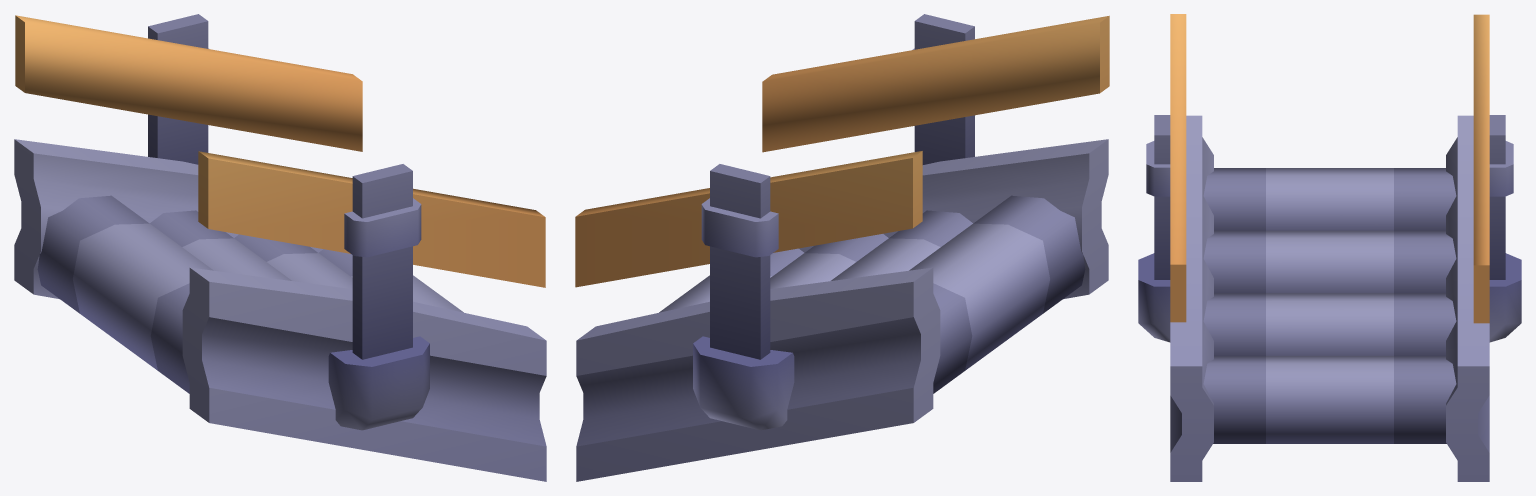
The model's file is kenney-factory-conveyor-bars-stripe-fence-slope.glb.
3 renders of one model, left to right at view 1: azimuth 30°, elevation 25°; view 2: azimuth 150°, elevation 25°; view 3: azimuth 270°, elevation 25°, orthographic. The views are drawn at different scales.
Parts seen in each view (by area): view 1: conveyor-bars-stripe-fence-slope; view 2: conveyor-bars-stripe-fence-slope; view 3: conveyor-bars-stripe-fence-slope.
Part boxes in pixels (left/top/right/bottom): conveyor-bars-stripe-fence-slope: left=14, top=14, right=546, bottom=481; conveyor-bars-stripe-fence-slope: left=575, top=14, right=1109, bottom=481; conveyor-bars-stripe-fence-slope: left=1138, top=14, right=1521, bottom=481.
Bounding box in the file's own units: 1.51 × 1.73 × 1.8.
Materials: 1 (1 with a texture image).
